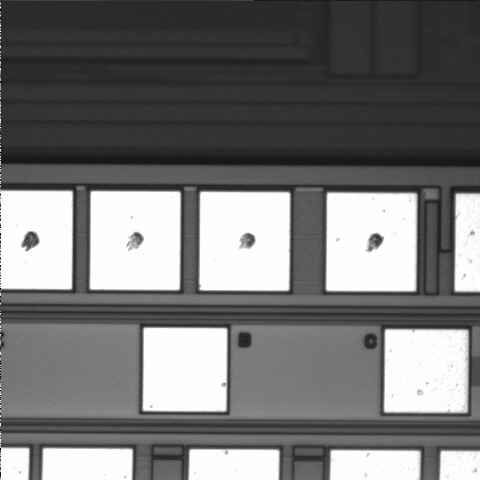pad: (199, 192, 290, 291), (90, 191, 180, 290), (326, 193, 416, 291), (143, 328, 227, 411), (384, 330, 468, 412)
